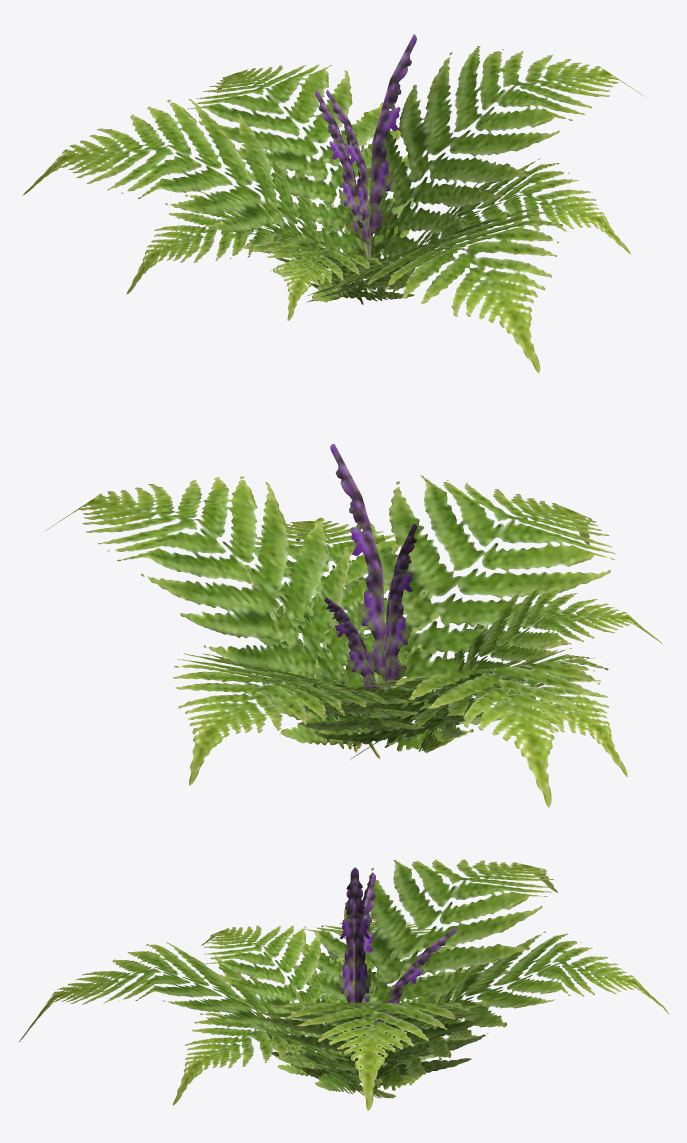
The model's file is Flowery Fern.fbx.
The picture shows the model from 3 angles, top to bottom: view 1: azimuth 30°, elevation 25°; view 2: azimuth 150°, elevation 25°; view 3: azimuth 270°, elevation 25°; orthographic projection. The views are drawn at different scales.
Parts seen in each view (by area): view 1: FloweryFern; view 2: FloweryFern; view 3: FloweryFern.
Part boxes in pixels (x1,y1,x2,y2): FloweryFern: [23, 34, 644, 373]; FloweryFern: [44, 444, 662, 807]; FloweryFern: [18, 859, 668, 1110].
Bounding box in the file's own units: 2.5 × 1.21 × 2.59.
Materials: 1 (1 with a texture image).
